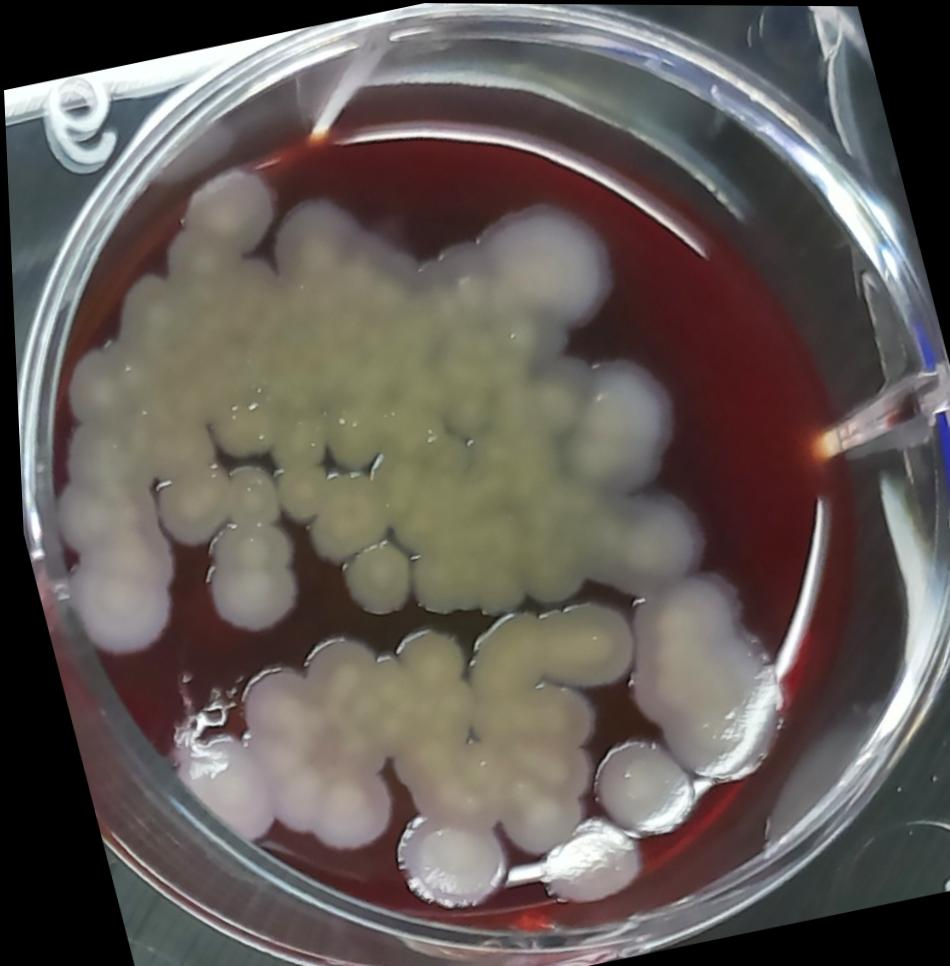bcereus: (12, 345, 197, 684), (598, 554, 797, 811), (462, 178, 638, 357), (509, 797, 645, 924)
